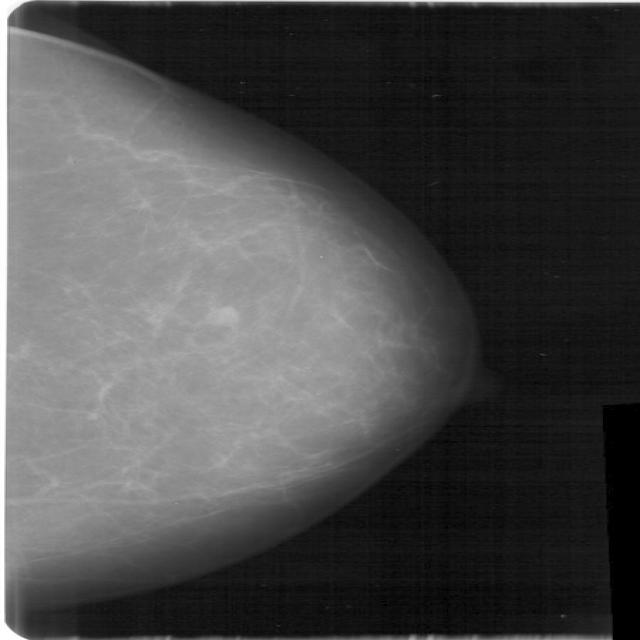tumour: (204, 305, 238, 327)
